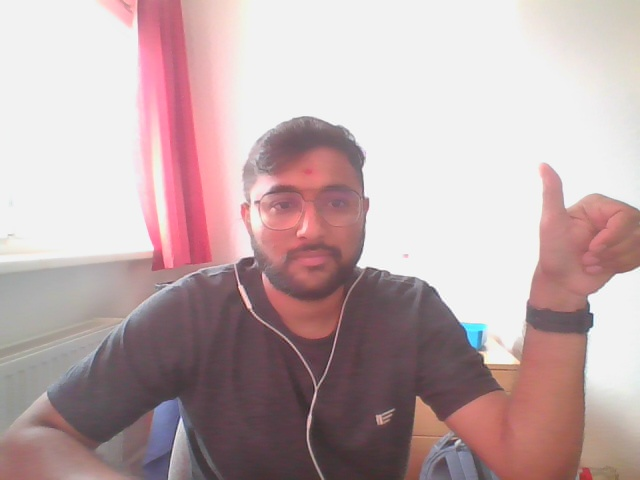ThumbsUp: (527, 161, 640, 319)
